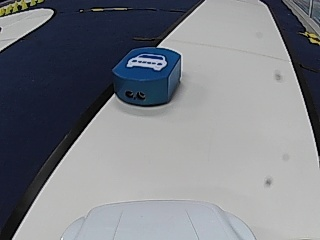safety: (127, 53, 168, 71)
